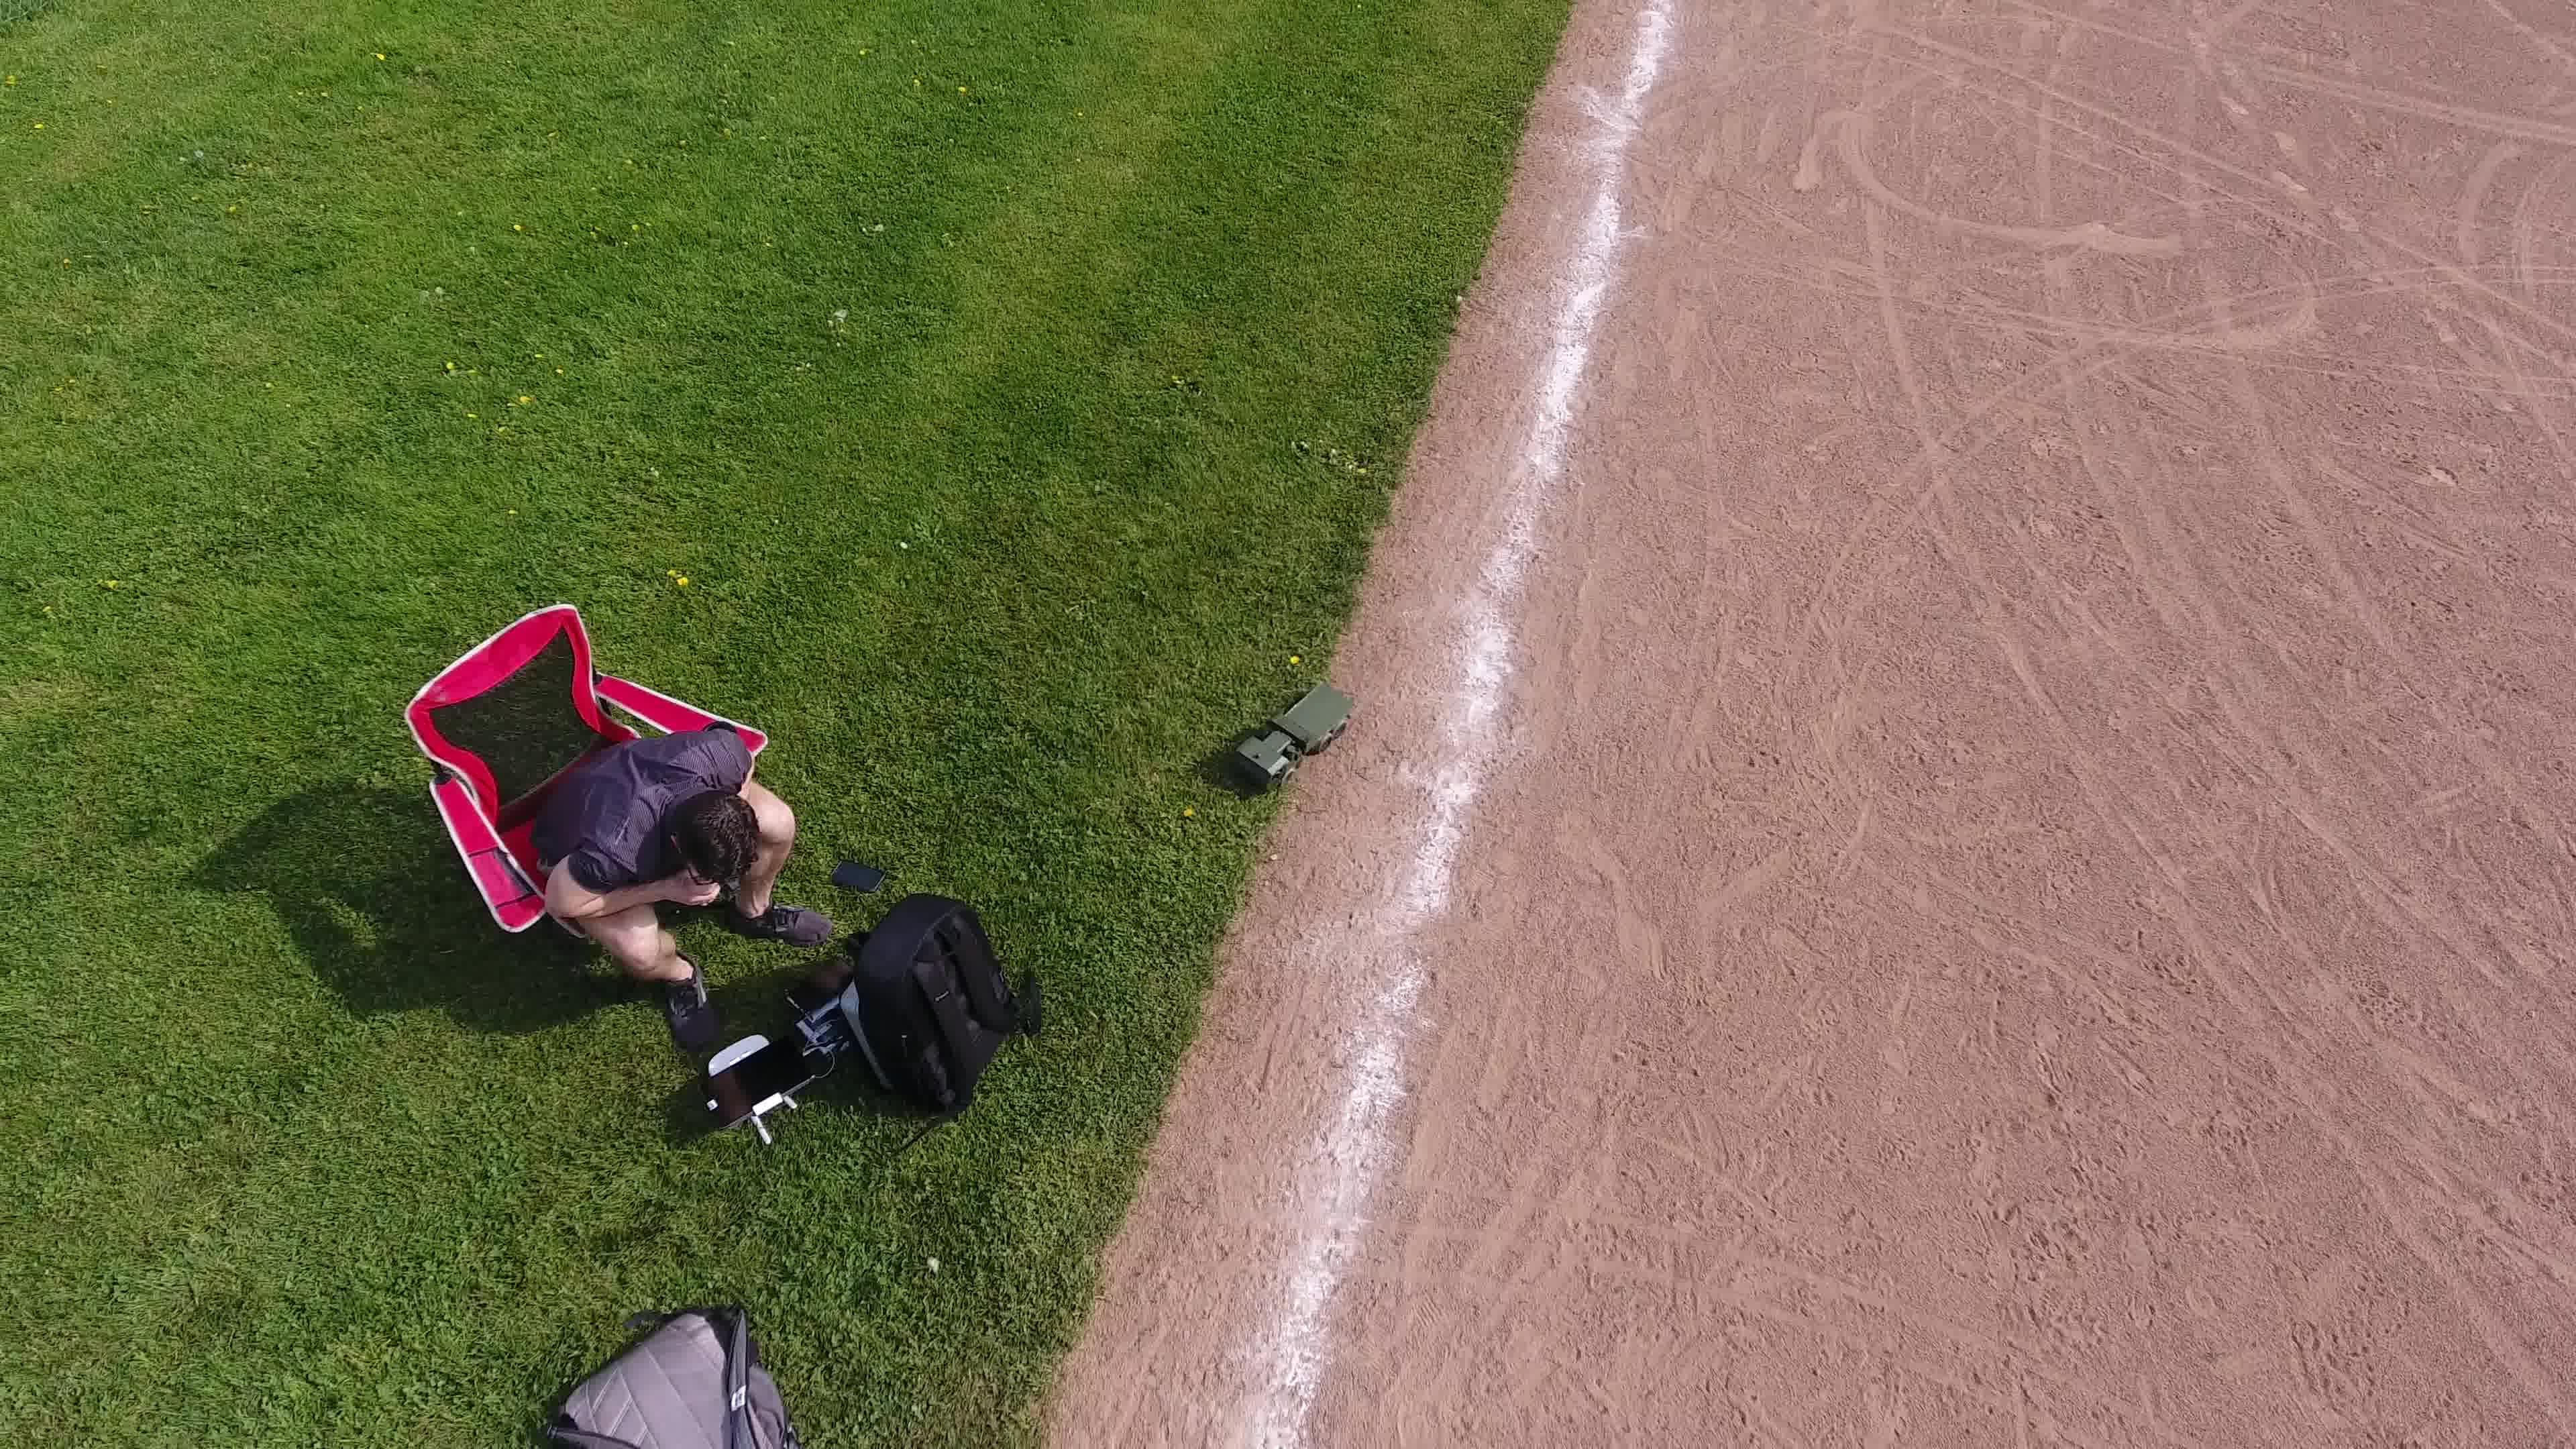transporter9: (1230, 681, 1362, 794)
